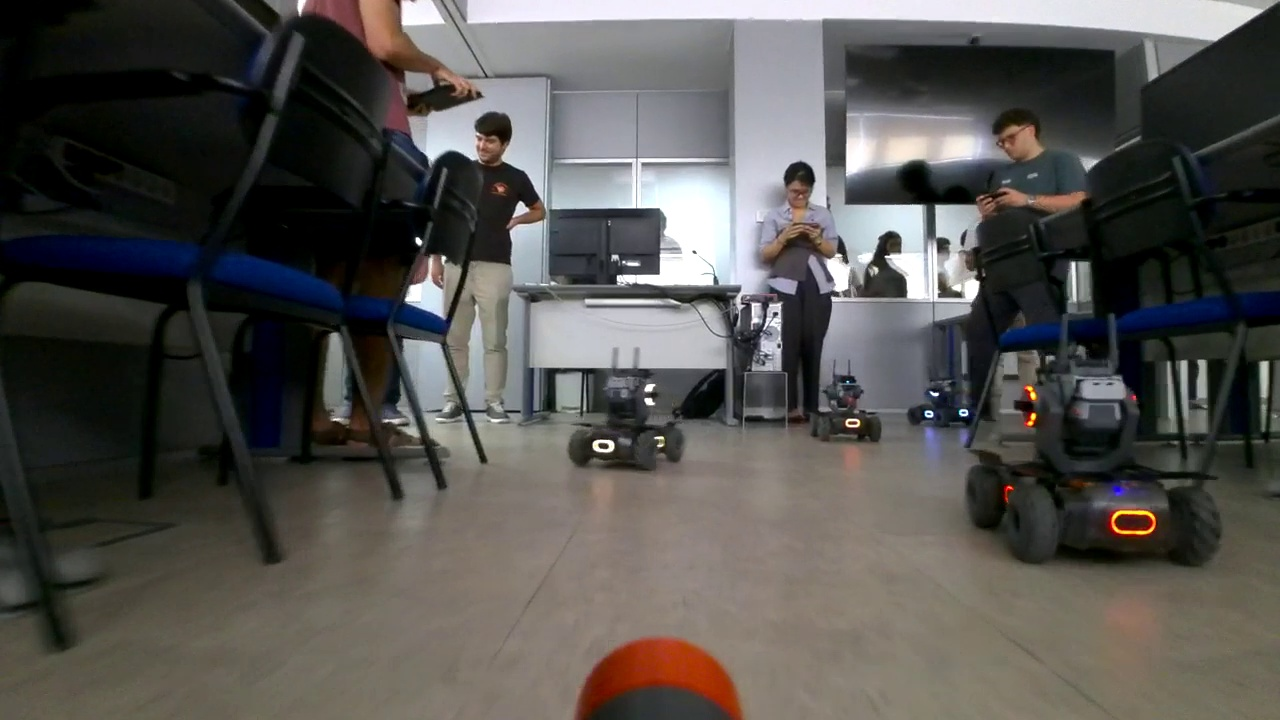robot: (966, 313, 1152, 565), (568, 348, 680, 471), (811, 358, 881, 441), (909, 369, 972, 426)
